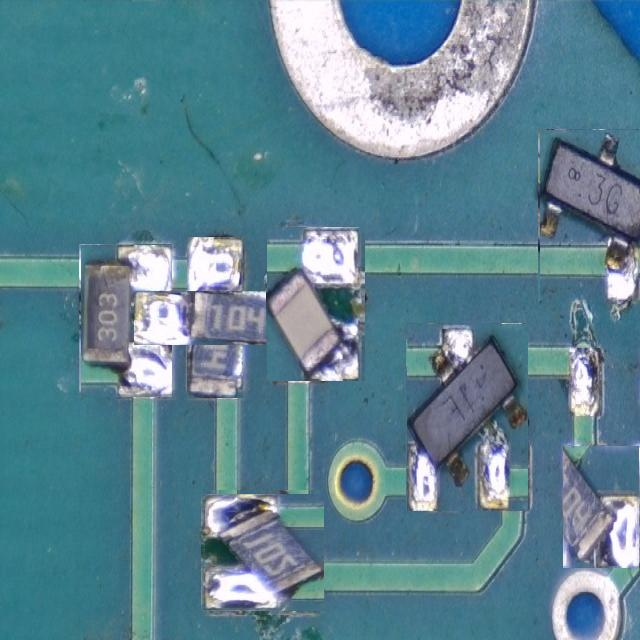Incorrect_installation: (406, 323, 528, 511), (538, 129, 640, 301), (268, 228, 363, 381), (201, 494, 324, 611), (80, 244, 172, 397), (564, 445, 638, 568), (135, 290, 294, 345)
